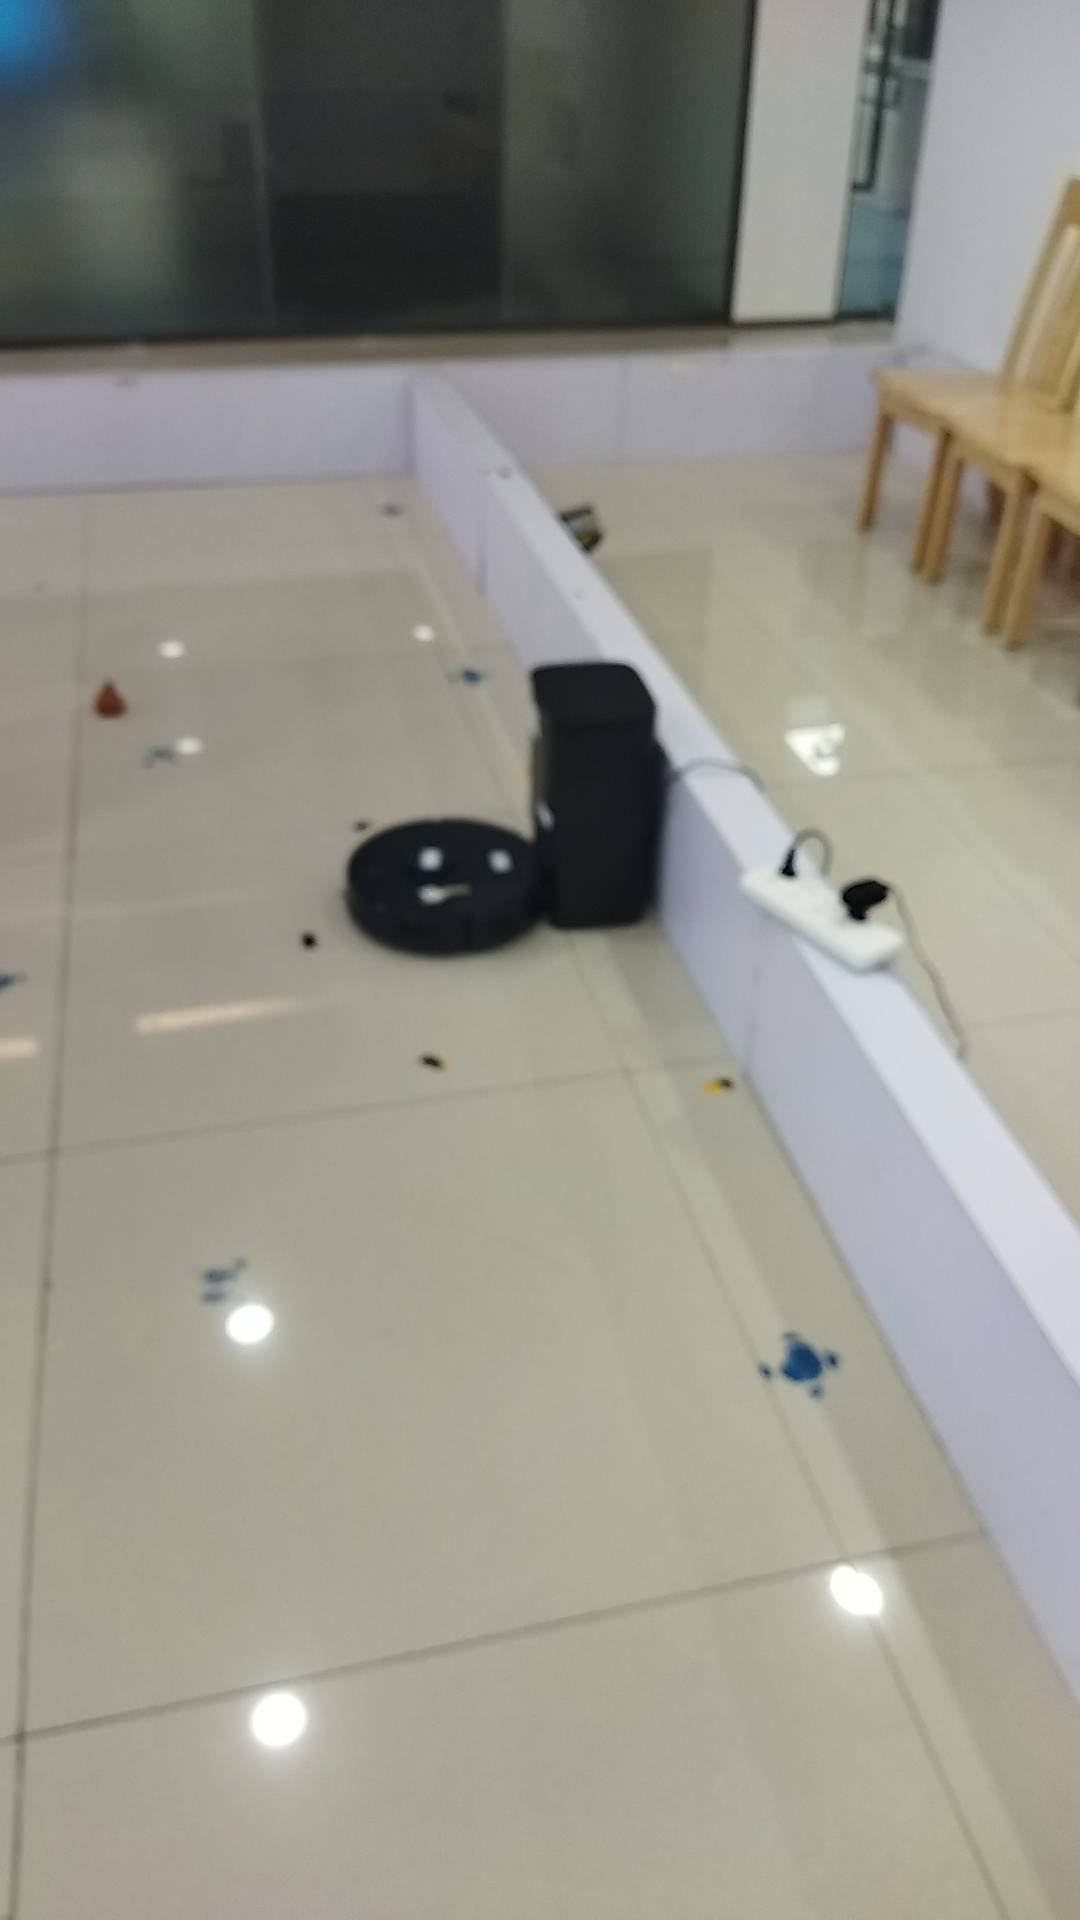dust collecting barrel: (522, 661, 666, 934)
